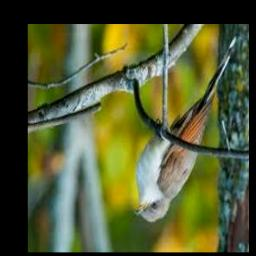Cuckoo: (135, 37, 237, 222)
